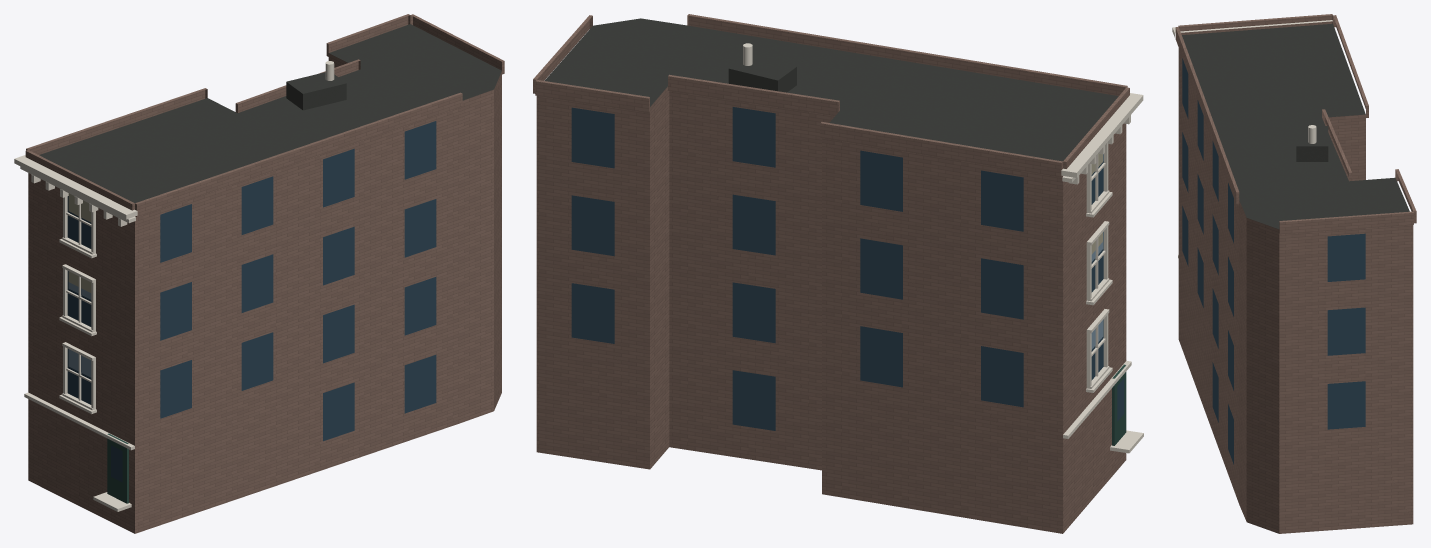
3 views of the same model, side by side, from view 1: azimuth 30°, elevation 25°; view 2: azimuth 150°, elevation 25°; view 3: azimuth 270°, elevation 25° (orthographic). The views are drawn at different scales.
Parts seen in each view (by area): view 1: Footprint 0 / surface 2, Footprint 0 / surface 1, Inset glazing, Facade bay volumes, Cornices and window frames, Storefronts and doors, Inferred rooftop service enclosure / surface 5, Inferred rooftop service enclosure / surface 3, Interior blind variation; view 2: Footprint 0 / surface 2, Footprint 0 / surface 1, Inset glazing, Facade bay volumes, Cornices and window frames, Inferred rooftop service enclosure / surface 3, Storefronts and doors; view 3: Footprint 0 / surface 2, Footprint 0 / surface 1, Inset glazing, Facade bay volumes, Inferred rooftop service enclosure / surface 3, Inferred rooftop service enclosure / surface 1, Cornices and window frames.
Part boxes in pixels (box(x1,y1,x2,y2)): Footprint 0 / surface 2: box(28, 53, 501, 533); Footprint 0 / surface 1: box(39, 24, 501, 202); Inset glazing: box(67, 121, 436, 482); Facade bay volumes: box(25, 14, 504, 216); Cornices and window frames: box(14, 155, 137, 511); Storefronts and doors: box(107, 433, 128, 503); Inferred rooftop service enclosure / surface 5: box(303, 83, 346, 110); Inferred rooftop service enclosure / surface 3: box(286, 72, 346, 93); Interior blind variation: box(68, 193, 91, 292); Footprint 0 / surface 2: box(536, 86, 1126, 533); Footprint 0 / surface 1: box(545, 18, 1118, 161); Inset glazing: box(571, 107, 1124, 430); Facade bay volumes: box(533, 14, 1129, 177); Cornices and window frames: box(1061, 93, 1143, 453); Inferred rooftop service enclosure / surface 3: box(729, 56, 796, 80); Storefronts and doors: box(1112, 364, 1126, 445); Footprint 0 / surface 2: box(1178, 48, 1413, 533); Footprint 0 / surface 1: box(1182, 23, 1409, 229); Inset glazing: box(1182, 58, 1365, 464); Facade bay volumes: box(1175, 14, 1416, 234); Inferred rooftop service enclosure / surface 3: box(1296, 126, 1328, 146); Inferred rooftop service enclosure / surface 1: box(1296, 146, 1328, 161); Cornices and window frames: box(1172, 20, 1332, 258).
Bounding box in the file's own units: 19.01 × 13.97 × 9.2.
